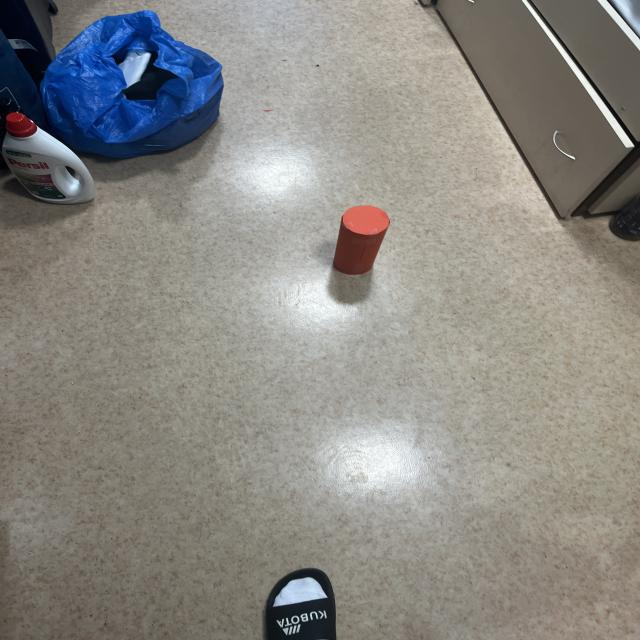przeszkoda: (334, 206, 389, 274)
